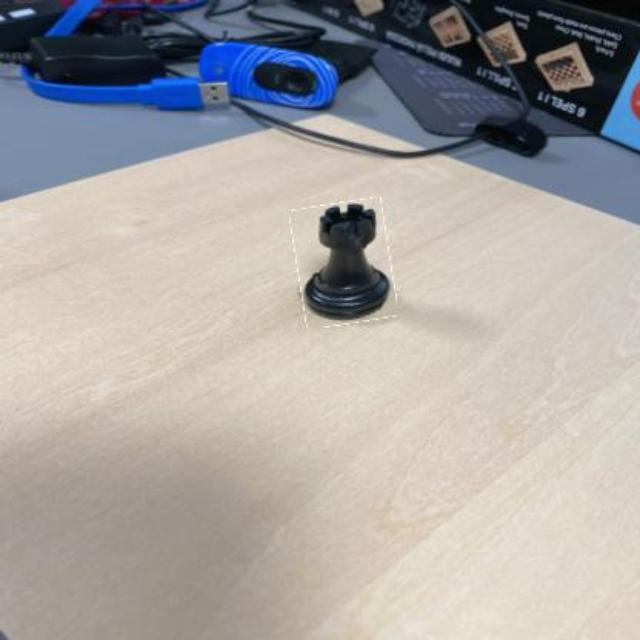black-rook: (295, 201, 395, 325)
